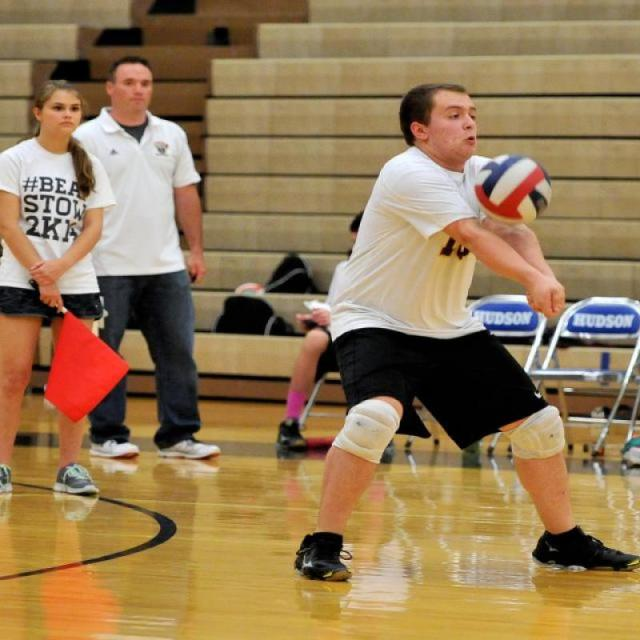volleyball: (472, 150, 552, 224)
